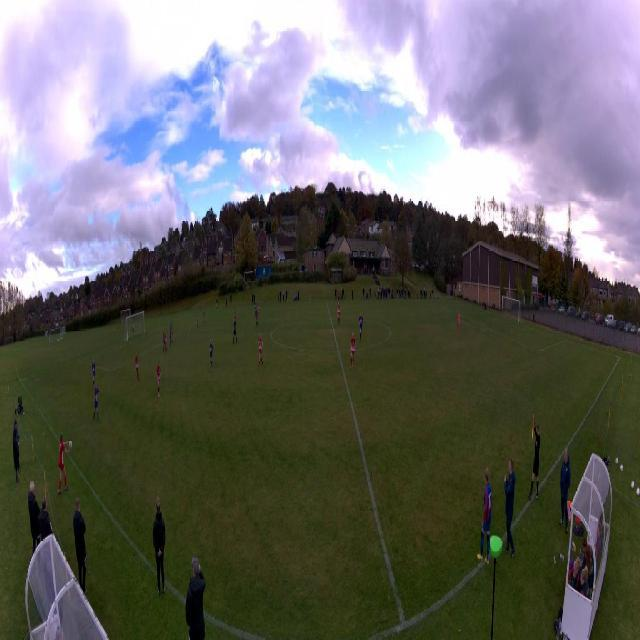ball: (68, 440, 72, 449)
player: (94, 380, 102, 424), (350, 331, 356, 369), (257, 333, 263, 367), (156, 360, 161, 398), (232, 316, 238, 345), (358, 314, 363, 344), (135, 351, 140, 380), (92, 358, 96, 387), (209, 340, 213, 368), (337, 302, 341, 326), (255, 308, 259, 326), (169, 330, 173, 347), (163, 330, 166, 352), (458, 312, 461, 331), (164, 335, 167, 353), (132, 322, 135, 339), (257, 301, 260, 317), (234, 309, 237, 325), (254, 300, 257, 315), (197, 313, 199, 329), (203, 310, 205, 325), (170, 319, 172, 331)
